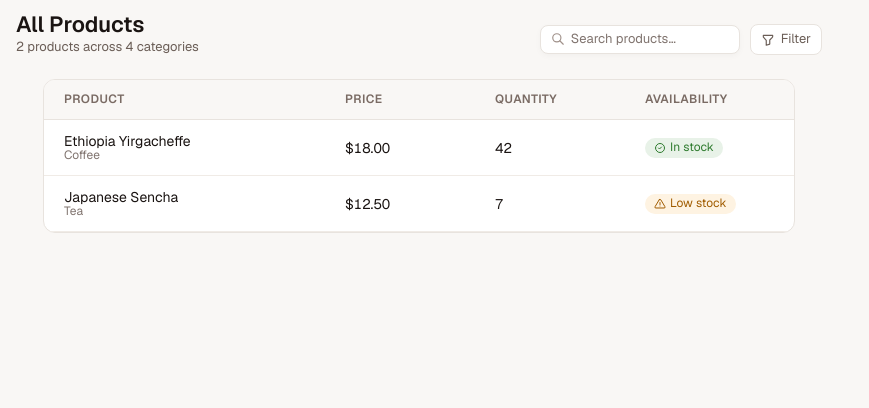
Test: filtering products › selects a Category chip, clicks Apply, and refetches with the correct category_id param
Expected: the text "Ethiopia Yirgacheffe" is shown, top-left (64, 132), bottom-right (191, 150)
// Open the filter dropdown
Click the button with aria-label "filter products". click: (786,40)
box: top-left (750, 24), bottom-right (822, 55)
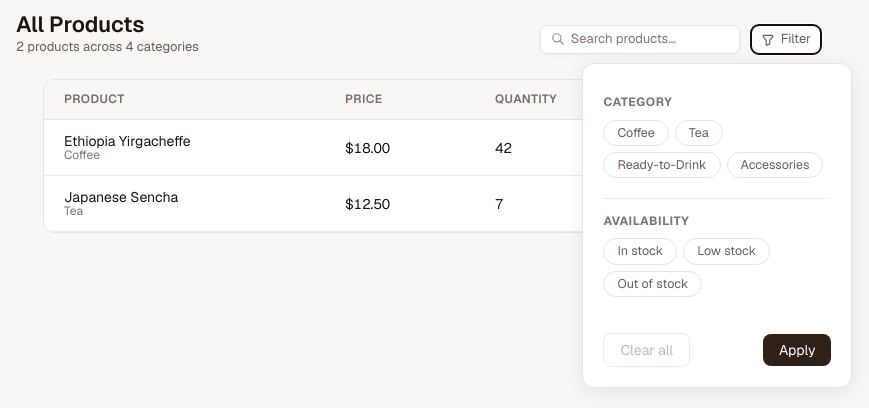
// Select the "Coffee" chip
Click the button "Coffee". click: (636,133)
box: top-left (603, 120), bottom-right (669, 146)
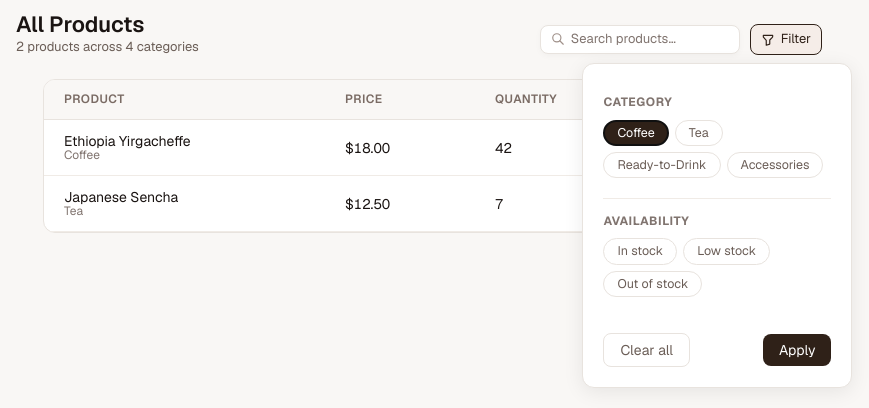
Result: the button "Coffee" is pressed at top-left (603, 120), bottom-right (669, 146)
// Click Apply
Click the button "Apply". click: (797,350)
box: top-left (763, 334), bottom-right (832, 366)
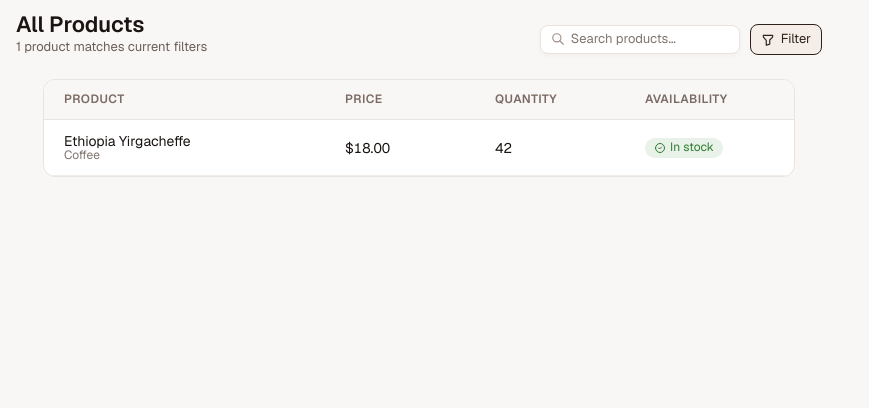
Expected: the text "Ethiopia Yirgacheffe" is shown, top-left (64, 132), bottom-right (191, 150)
Result: the link "Japanese Sencha" is gone
